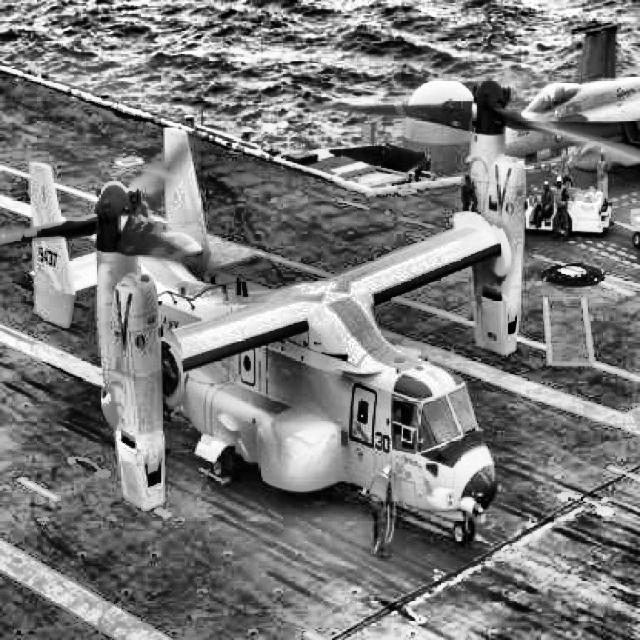F18: (466, 20, 640, 189)
V22: (1, 69, 639, 545)
